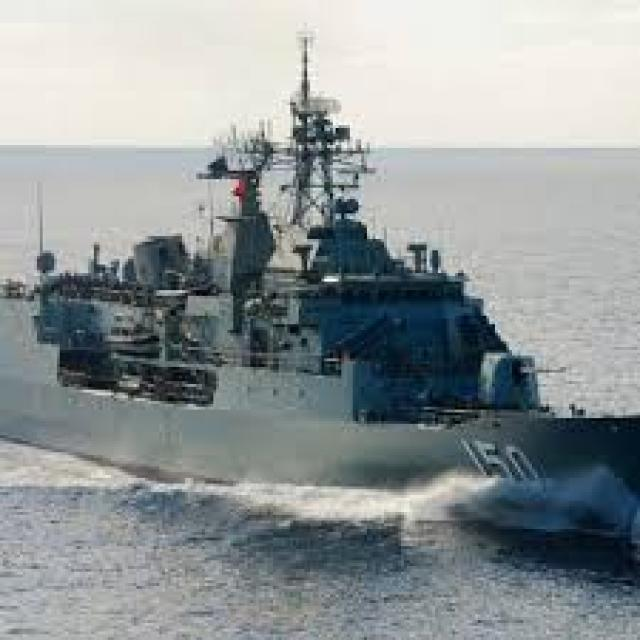navalvessels: (12, 54, 640, 537)
